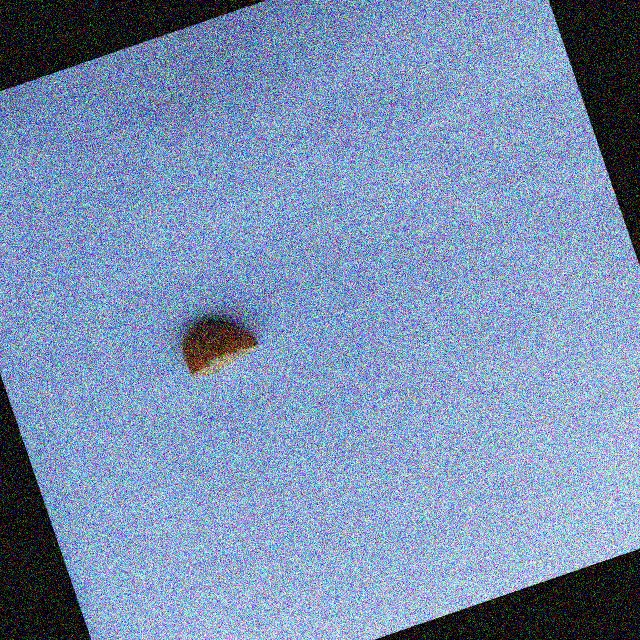grade4: (166, 299, 273, 388)
